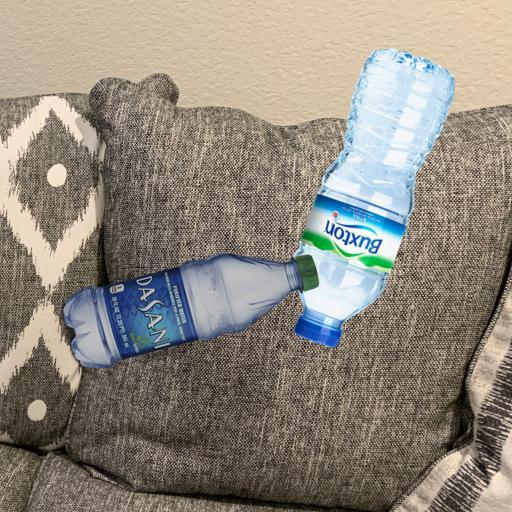bottle: (0, 247, 168, 386), (355, 0, 388, 201)
